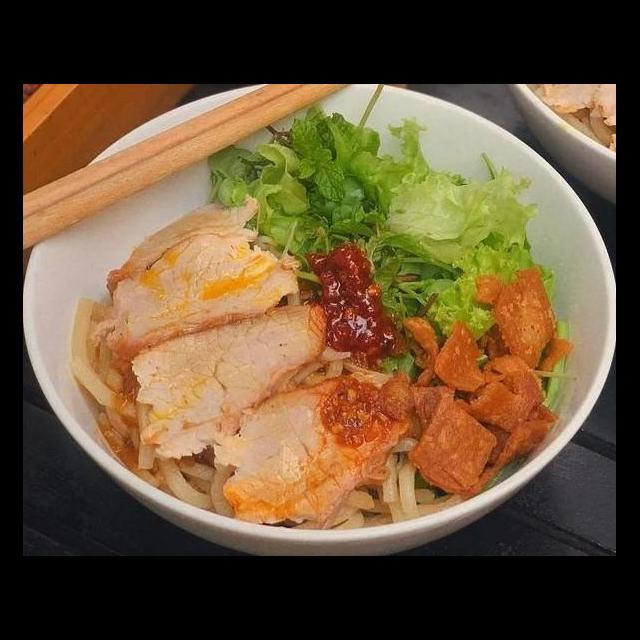banh da: (454, 393, 562, 502), (406, 389, 502, 501), (469, 260, 562, 374), (449, 351, 548, 437), (473, 318, 578, 385), (428, 318, 508, 399), (396, 311, 446, 388)
mi: (66, 291, 160, 477), (328, 435, 464, 538), (125, 450, 244, 521)
mi quang: (26, 130, 616, 556)
thit heo: (84, 190, 304, 366), (125, 295, 338, 465), (206, 369, 410, 528)
